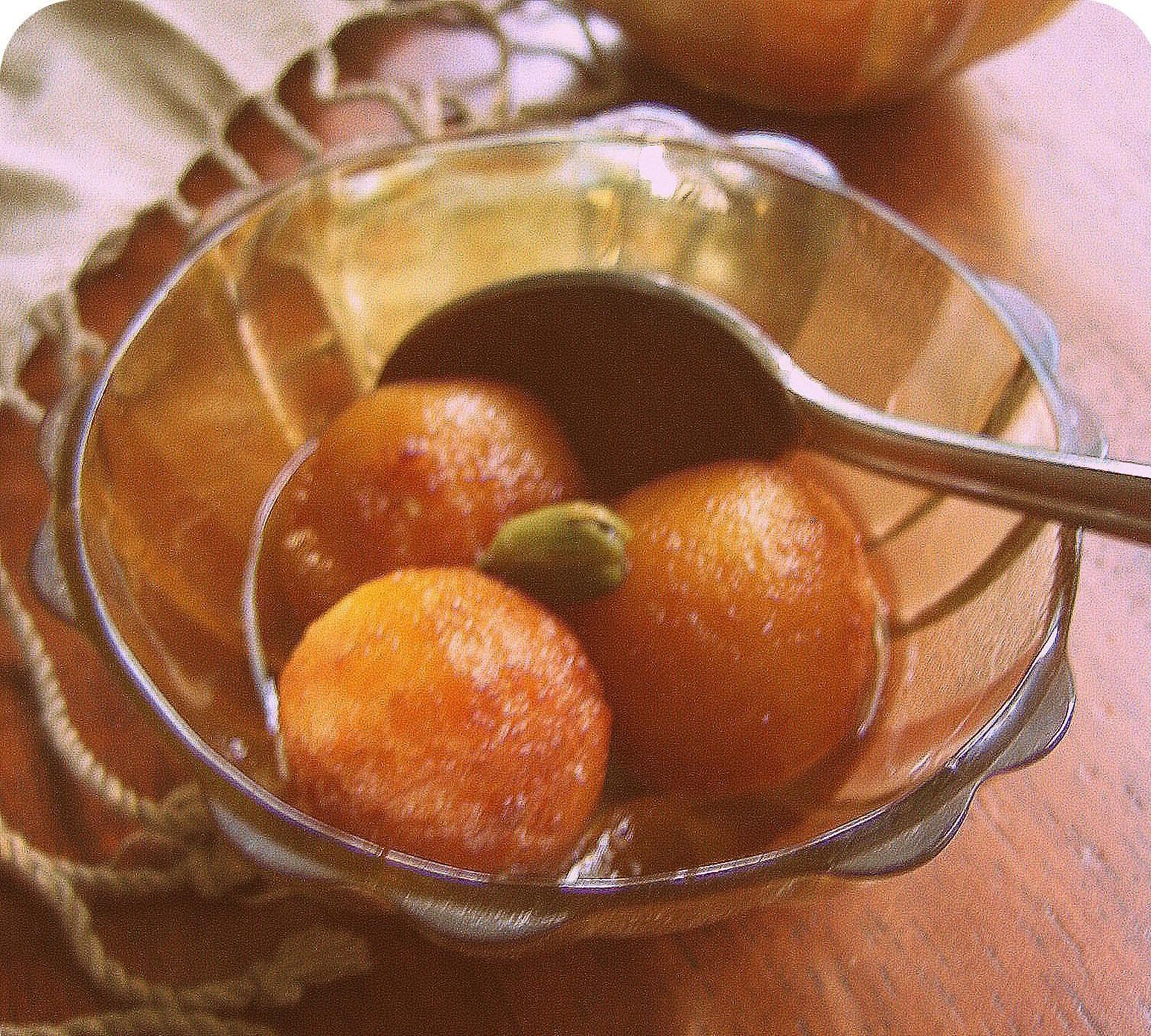GulabJamun: (278, 565, 611, 893), (593, 455, 896, 813), (257, 380, 599, 634)
